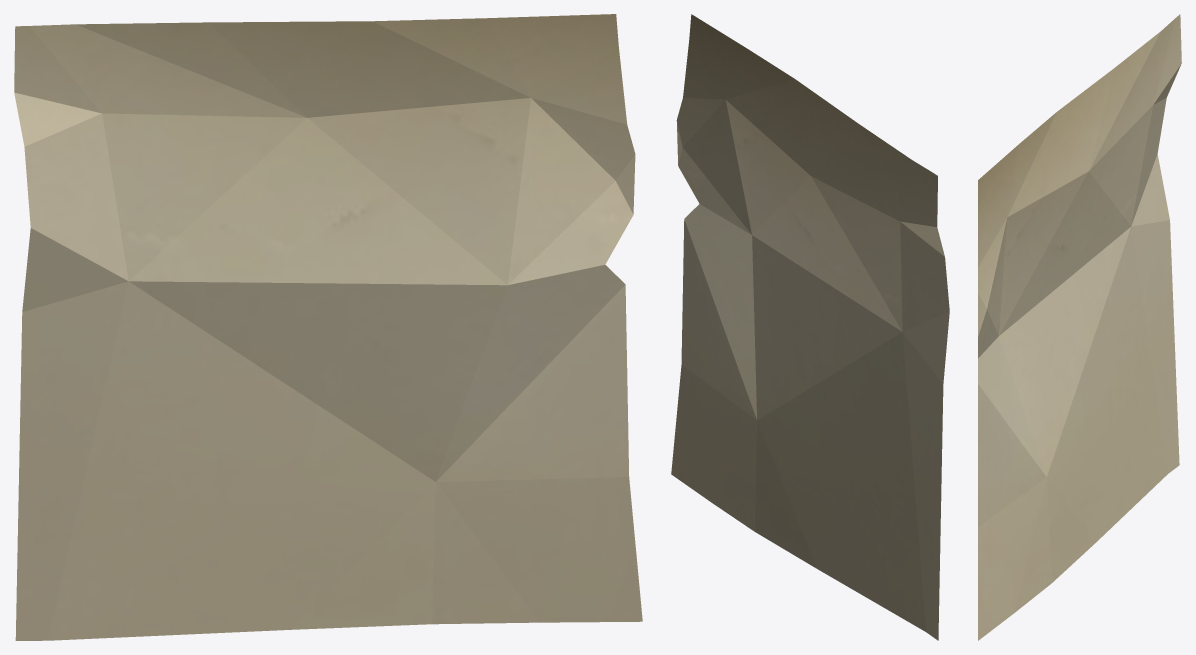
The picture shows the model from 3 angles, left to right: view 1: azimuth 30°, elevation 25°; view 2: azimuth 150°, elevation 25°; view 3: azimuth 270°, elevation 25°; orthographic projection. The views are drawn at different scales.
Bounding box in the file's own units: 0.6989 × 0.8374 × 0.3426.
2 materials, 2 textured.
